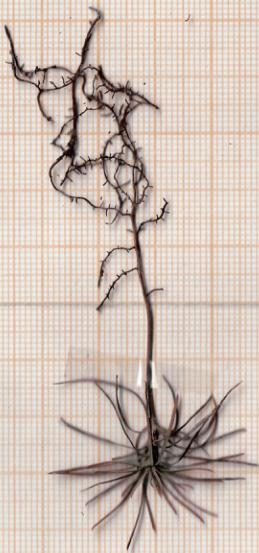flower: (46, 360, 259, 553)
root: (0, 1, 175, 316)
stem: (137, 279, 159, 421)
